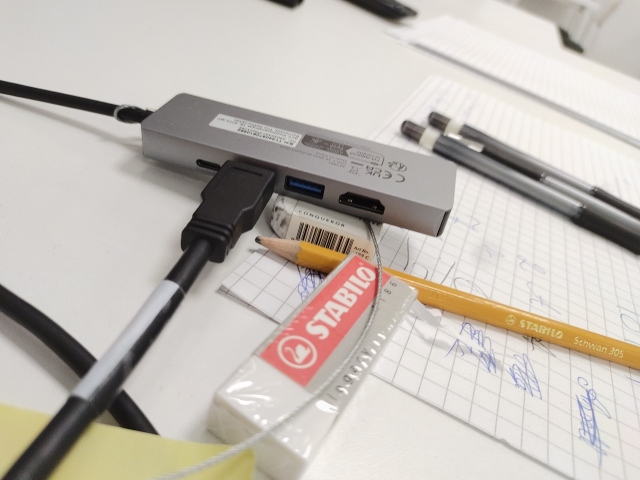HDMI: (339, 191, 386, 214)
USB: (283, 173, 326, 200)
USB-C: (195, 157, 221, 171)
